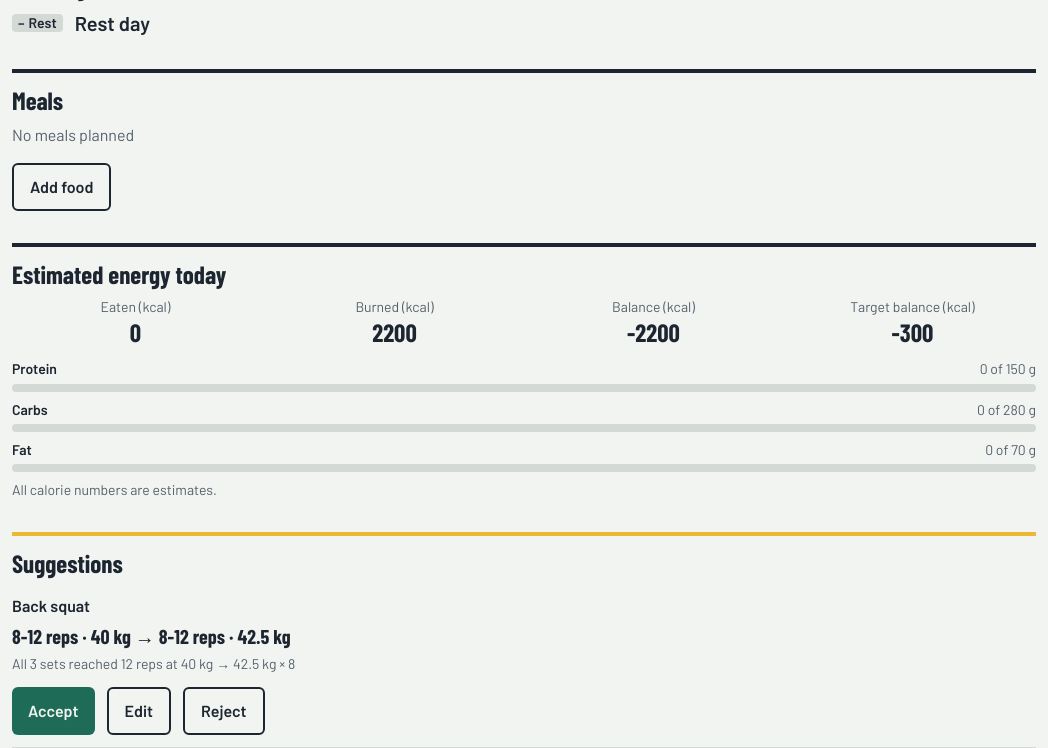
Test case: Suggestions on Today › accepts without overrides and the suggestion leaves the list
This screenshot has width=1048, height=748.
(page scrolled)
Click the button "Accept": (53, 711) [12,687,95,735]
(page scrolled)
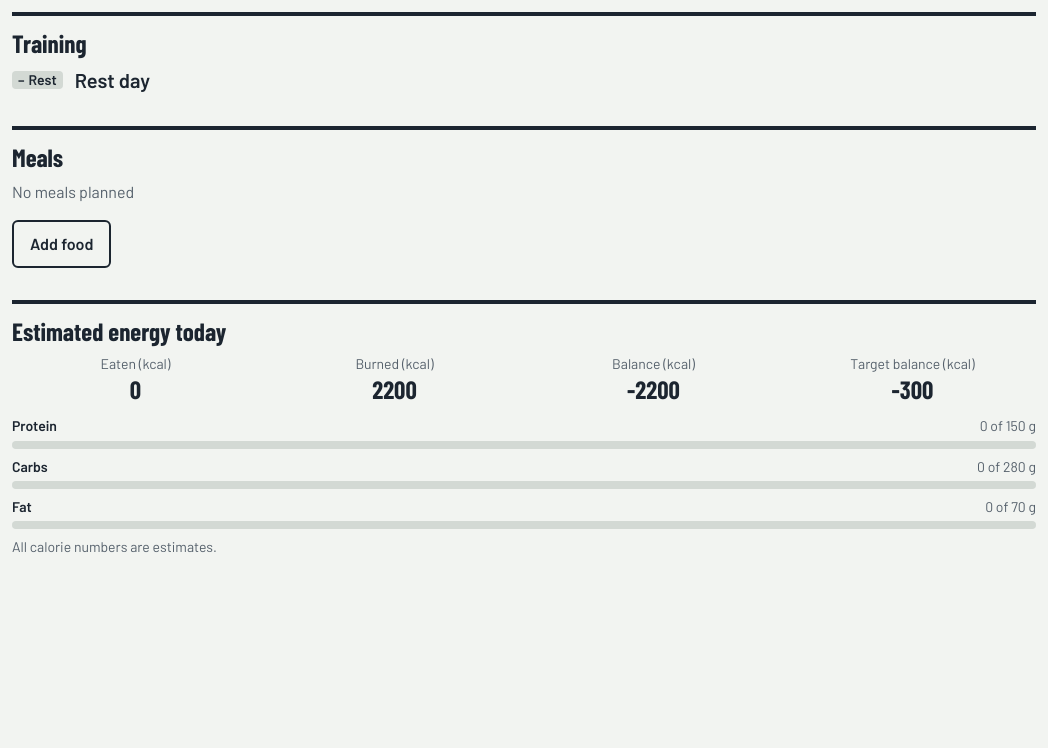
Check: the list item with test id "suggestion" is gone
